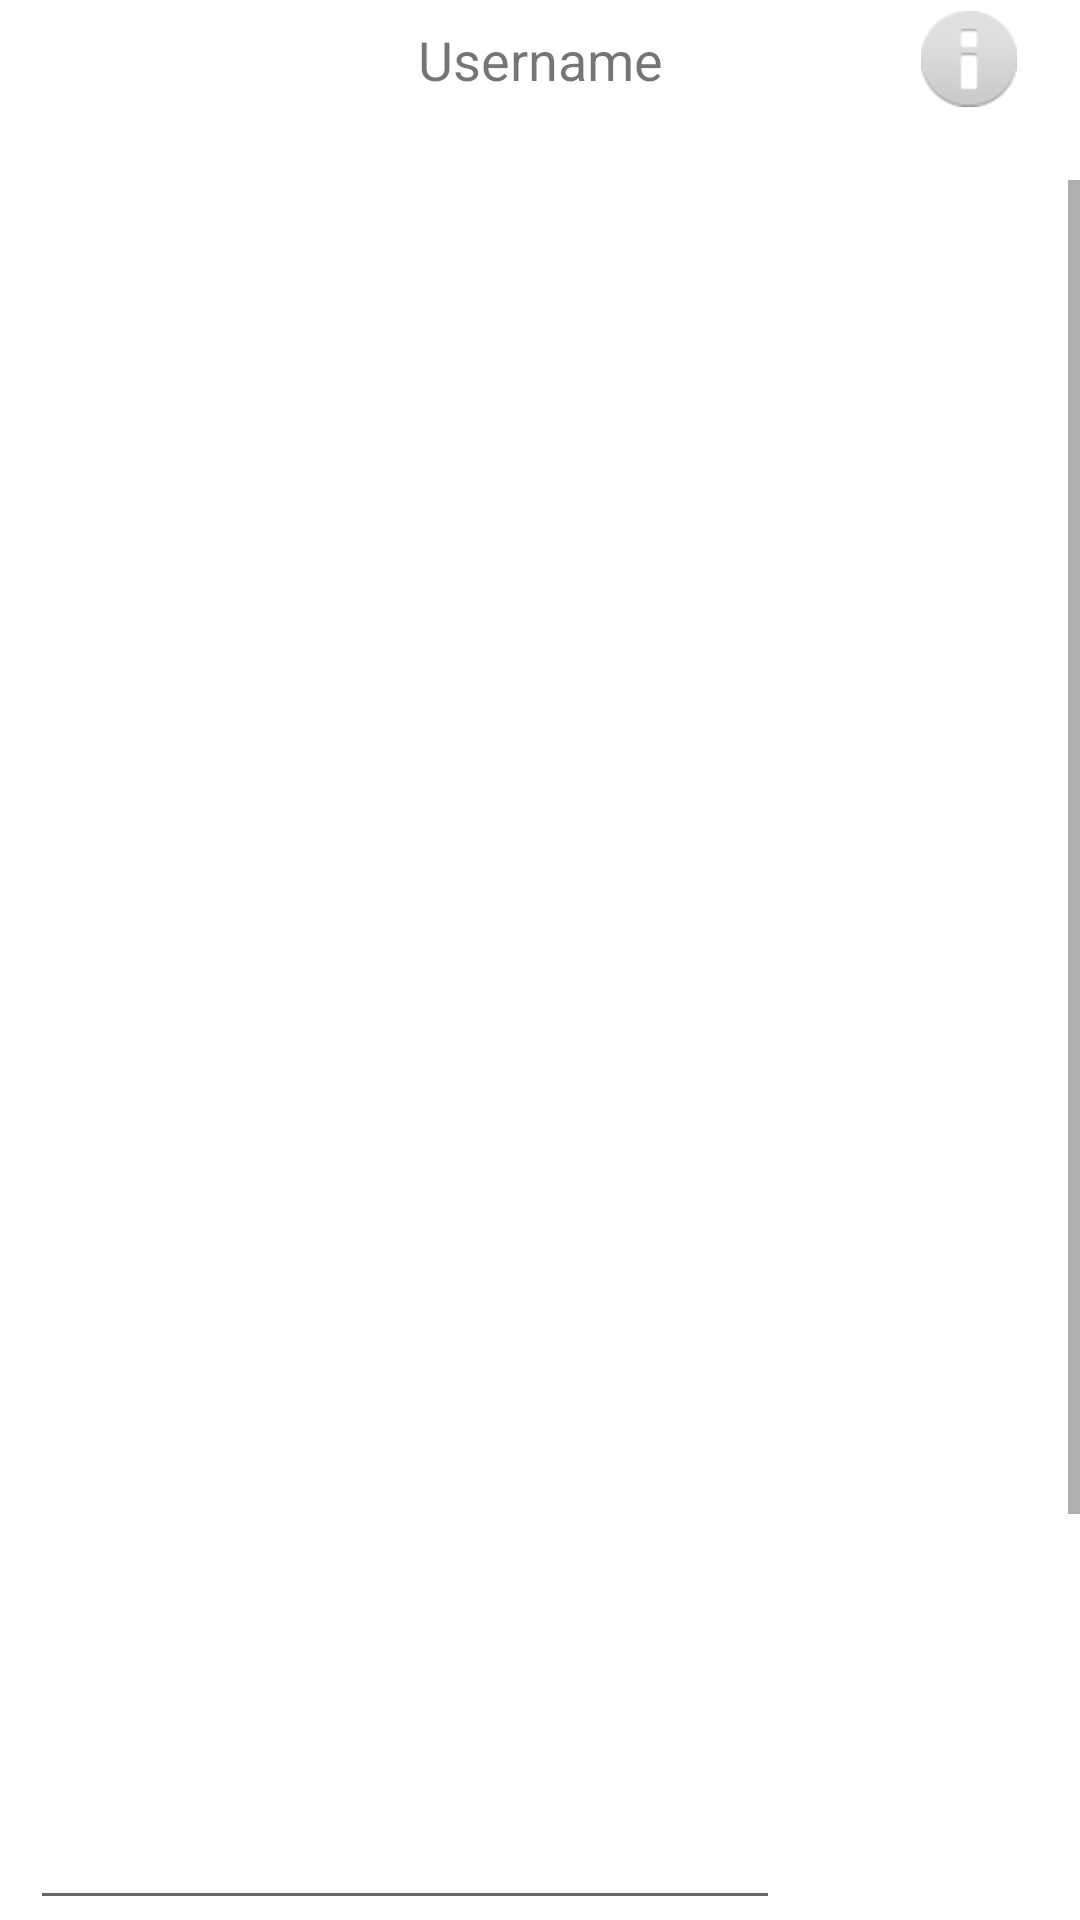

Icons on this 1080x1920 Android screen, each with the point to tap as point (x, y):
info: point (969, 59)
